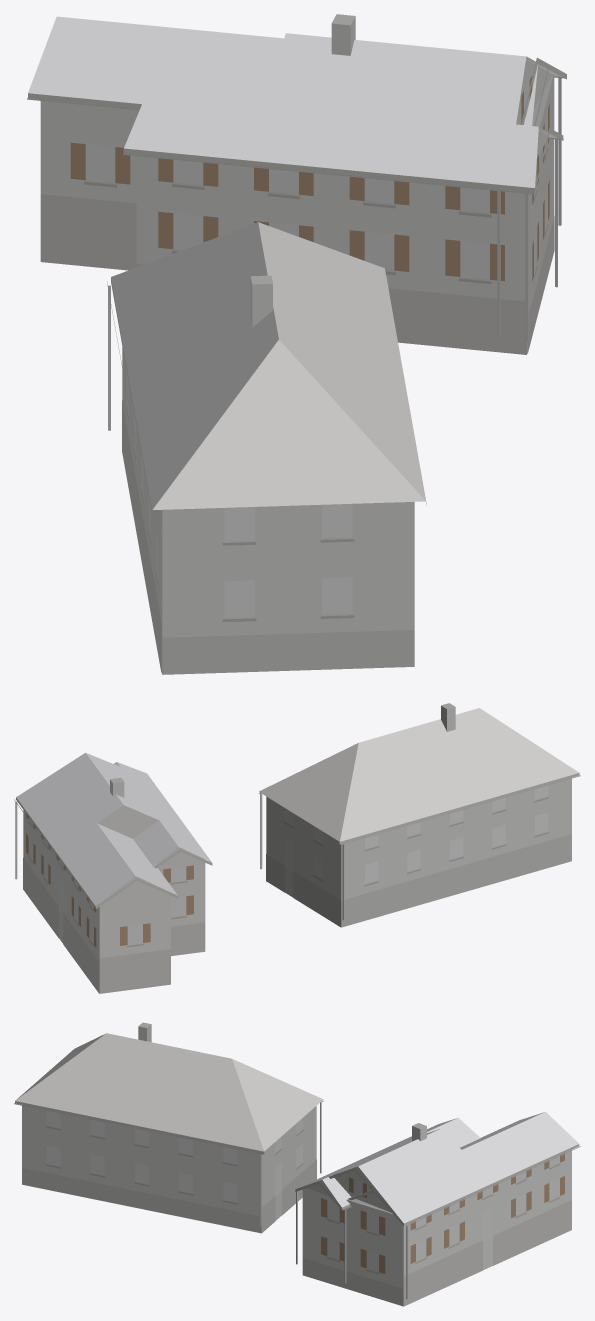
3 renders of one model, top to bottom at view 1: azimuth 30°, elevation 25°; view 2: azimuth 150°, elevation 25°; view 3: azimuth 270°, elevation 25°, orthographic. The views are drawn at different scales.
Parts seen in each view (by area): view 1: bld; view 2: bld; view 3: bld.
Boxes of the visible parts, x1,y1,x2,y2 form: bld: (27, 14, 566, 674); bld: (14, 703, 580, 993); bld: (14, 1022, 580, 1306).
Size of the model in its own units: 28.26 by 10.94 by 37.
